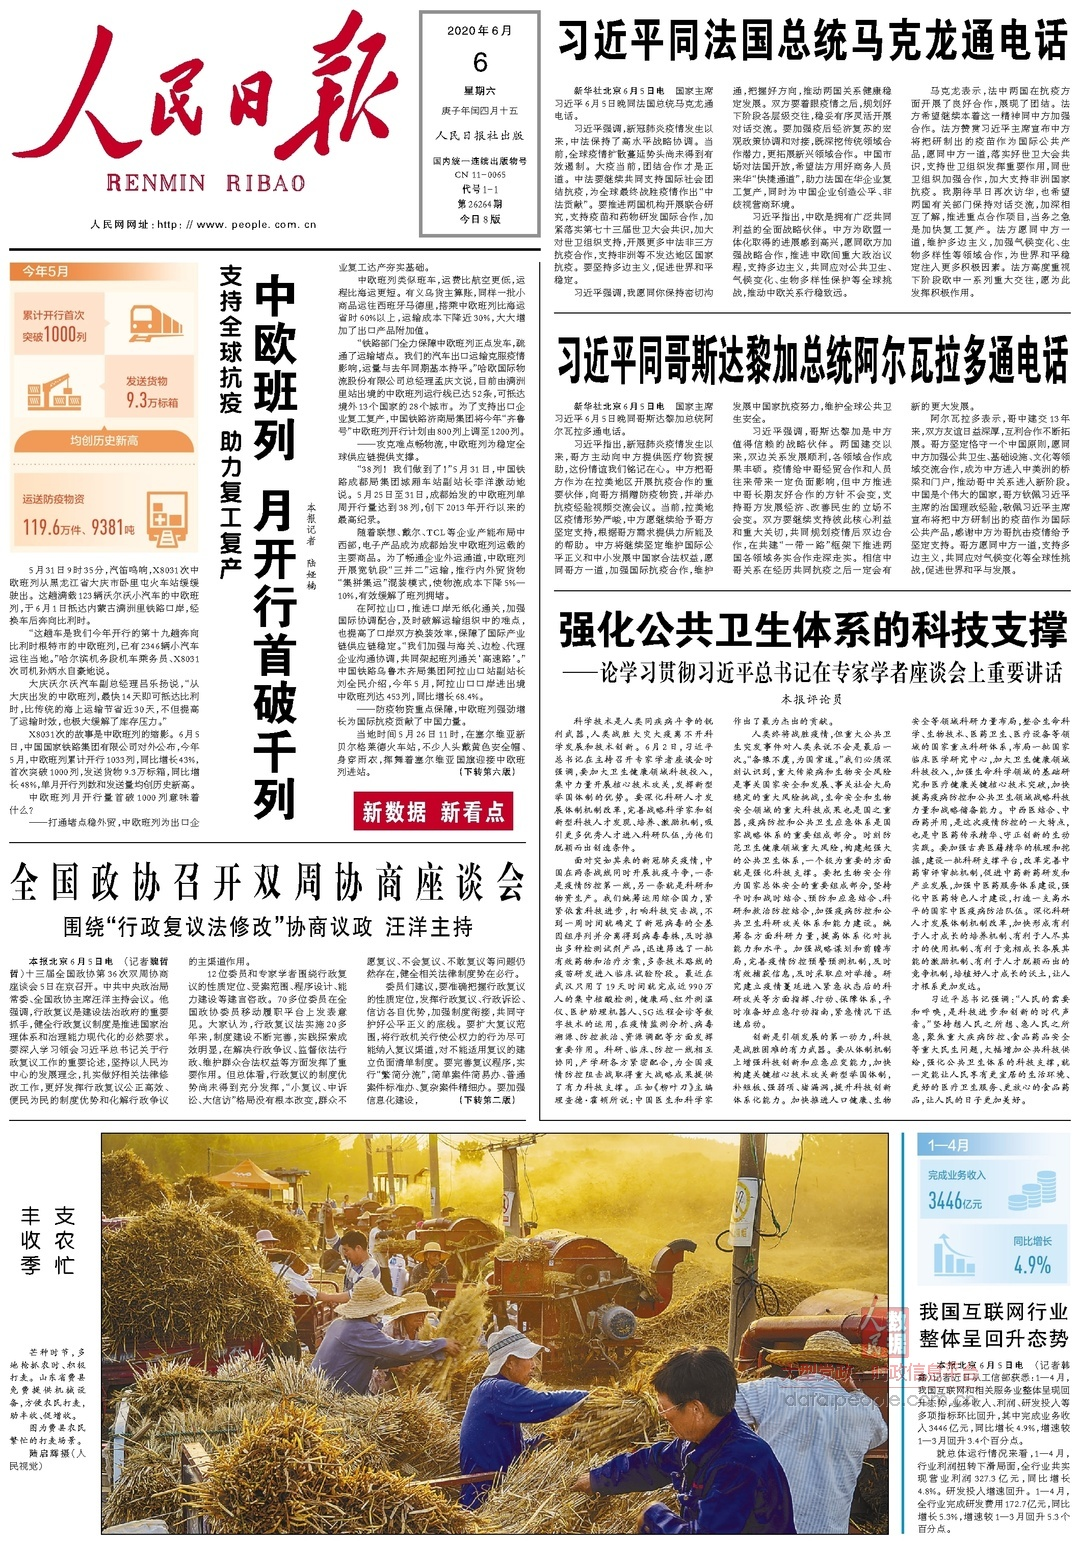pic: (95, 1128, 897, 1539)
